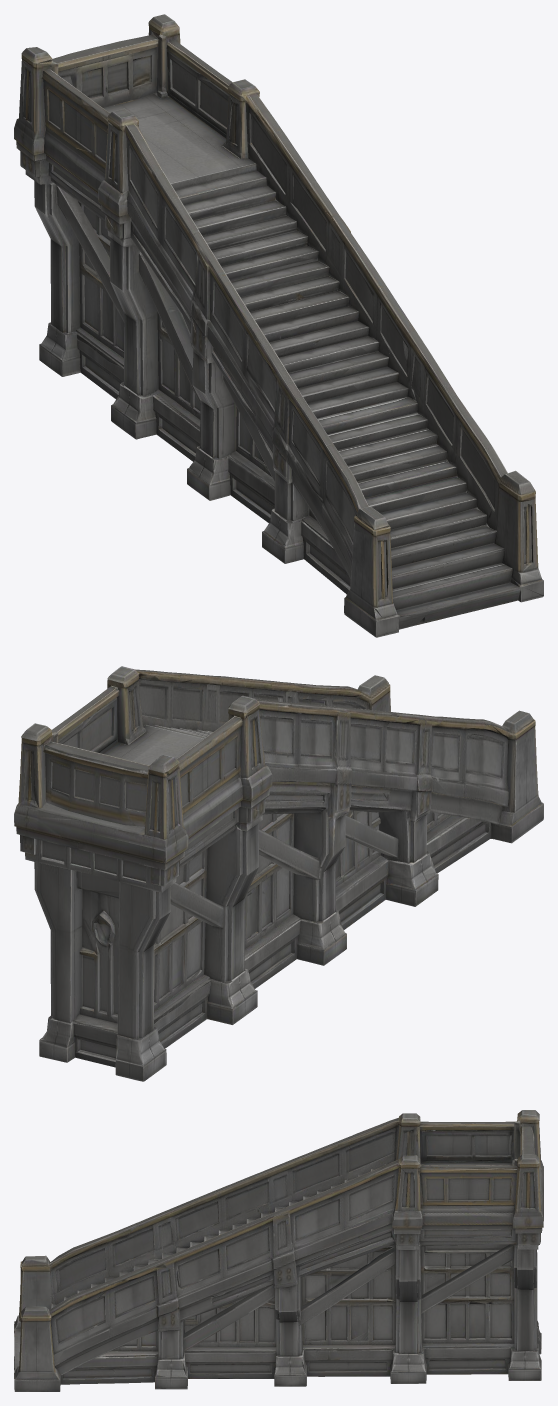
File: imperial_city_wall_stair.glb
3 renders of one model, top to bottom at view 1: azimuth 30°, elevation 25°; view 2: azimuth 150°, elevation 25°; view 3: azimuth 270°, elevation 25°, orthographic. The views are drawn at different scales.
Visible parts, largest first — view 1: mesh_node; view 2: mesh_node; view 3: mesh_node.
Part boxes in pixels (bbox=[...]): mesh_node: bbox=[14, 14, 543, 637]; mesh_node: bbox=[14, 666, 543, 1081]; mesh_node: bbox=[14, 1110, 543, 1391].
Bounding box in the file's own units: 3.35 × 6.1 × 12.8.
Materials: 1 (1 with a texture image).
